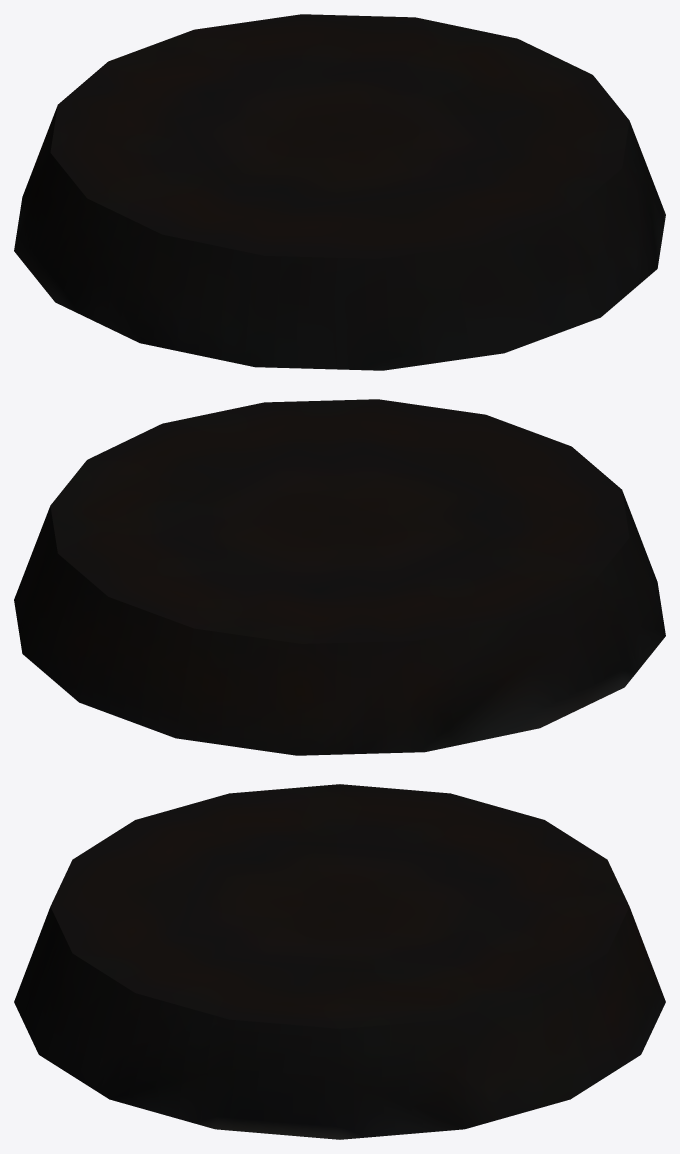
Rendered from Pipe_hole.FBX.
3 renders of one model, top to bottom at view 1: azimuth 30°, elevation 25°; view 2: azimuth 150°, elevation 25°; view 3: azimuth 270°, elevation 25°, orthographic.
Visible parts, largest first — view 1: Pipe_hole; view 2: Pipe_hole; view 3: Pipe_hole.
Part boxes in pixels (bbox=[...]): Pipe_hole: bbox=[14, 14, 665, 370]; Pipe_hole: bbox=[14, 399, 665, 755]; Pipe_hole: bbox=[14, 784, 665, 1139].
Bounding box in the file's own units: 42.76 × 6.91 × 42.76.
